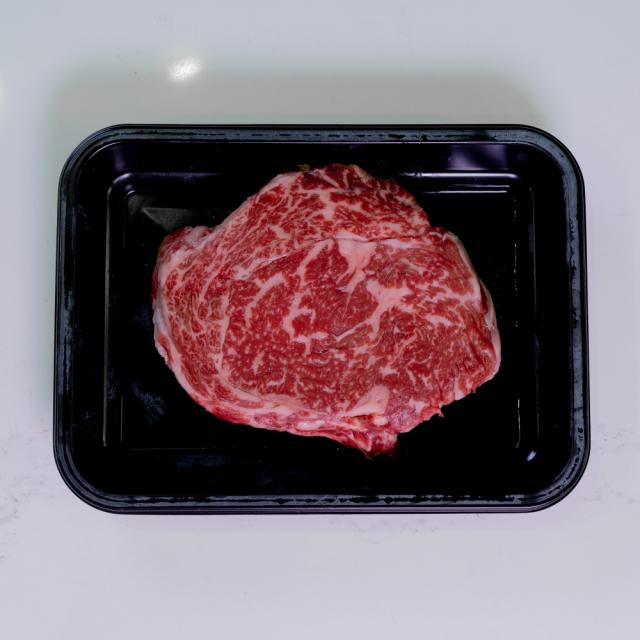beef: (85, 140, 555, 503)
